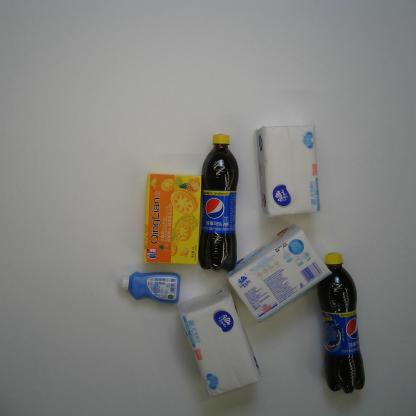Dessert: (142, 172, 203, 266)
Drink: (316, 252, 366, 394), (197, 133, 240, 273)
Personal Hygiene: (121, 271, 181, 304)
Tissue: (226, 223, 332, 323), (176, 284, 262, 398), (255, 123, 321, 218)
